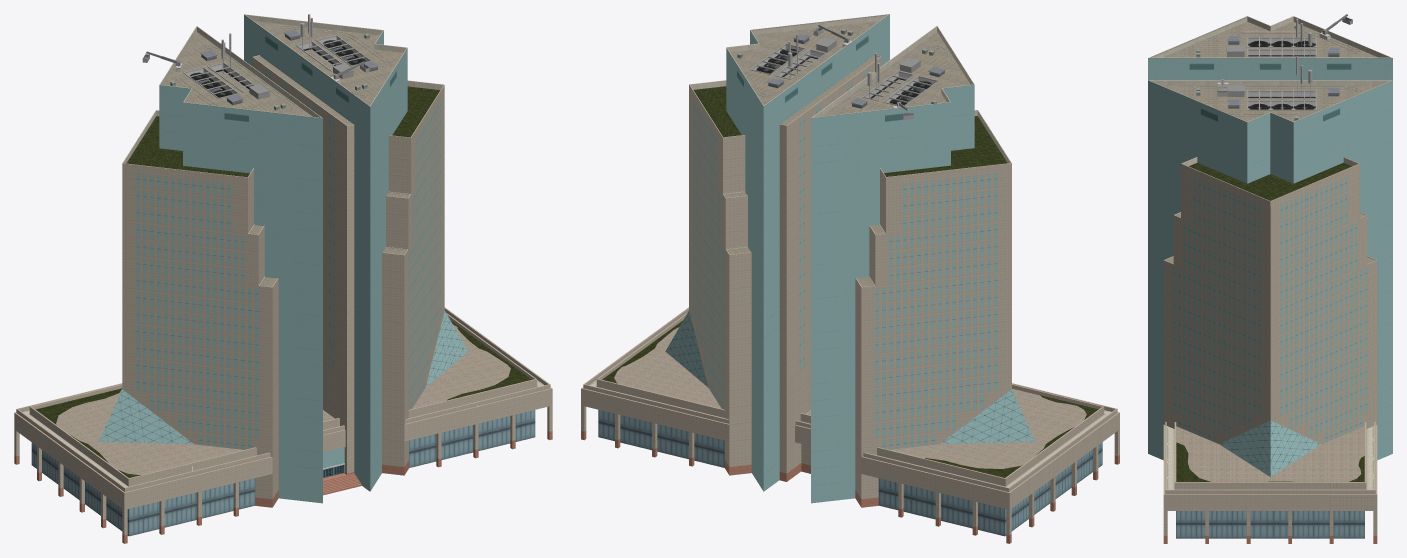
Rendered from office-l8.glb.
3 views of the same model, side by side, from view 1: azimuth 30°, elevation 25°; view 2: azimuth 150°, elevation 25°; view 3: azimuth 270°, elevation 25° (orthographic). The views are drawn at different scales.
Visible parts, largest first — view 1: NCCItowers_01 - Default_0; view 2: NCCItowers_01 - Default_0; view 3: NCCItowers_01 - Default_0.
Boxes of the visible parts, left/top/right/bottom form: NCCItowers_01 - Default_0: left=14, top=14, right=552, bottom=543; NCCItowers_01 - Default_0: left=581, top=14, right=1119, bottom=543; NCCItowers_01 - Default_0: left=1148, top=14, right=1392, bottom=543.
Size of the model in its own units: 118 by 109 by 60.
1 material, 1 textured.
